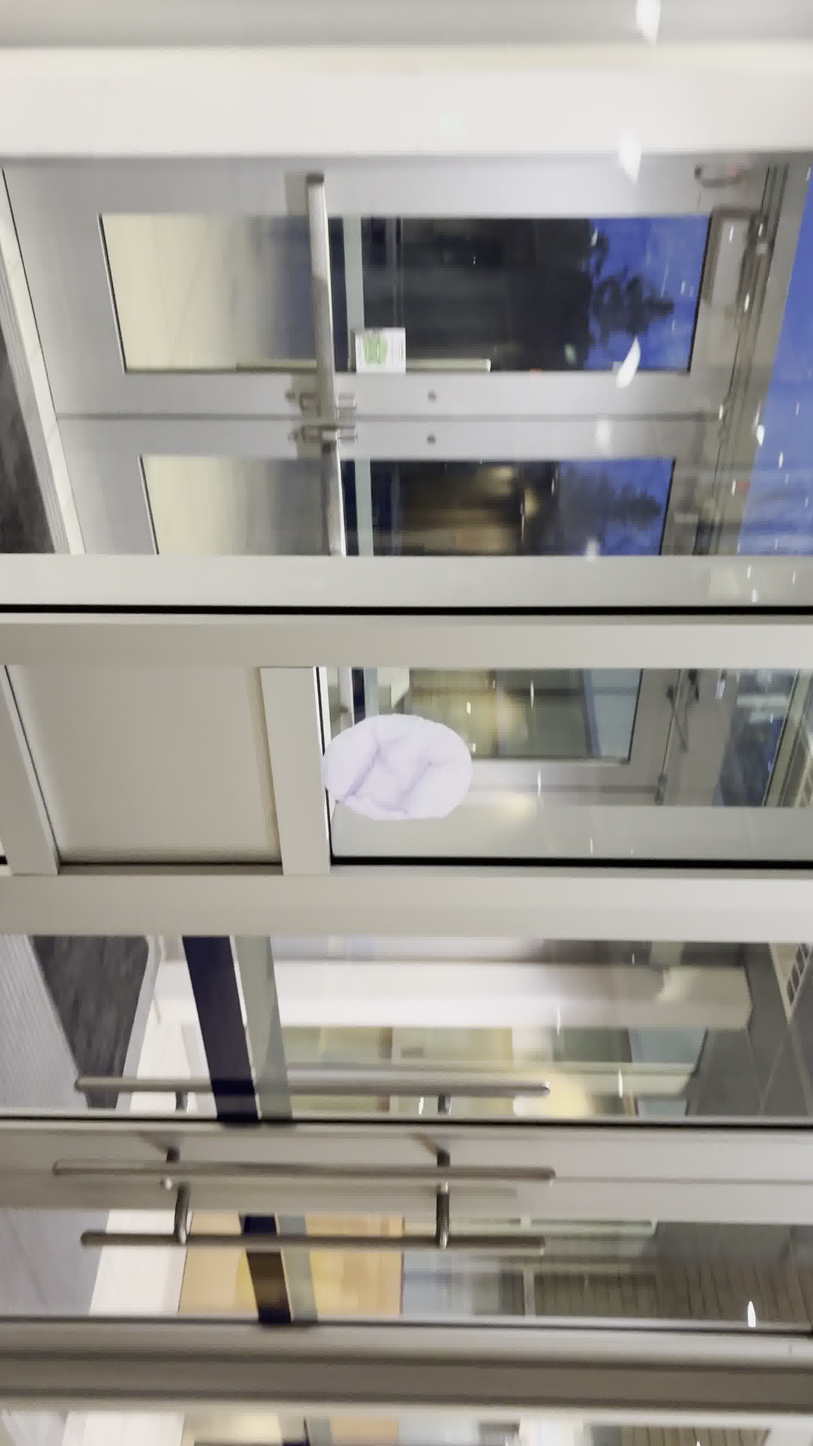Target: (318, 712, 474, 823)
